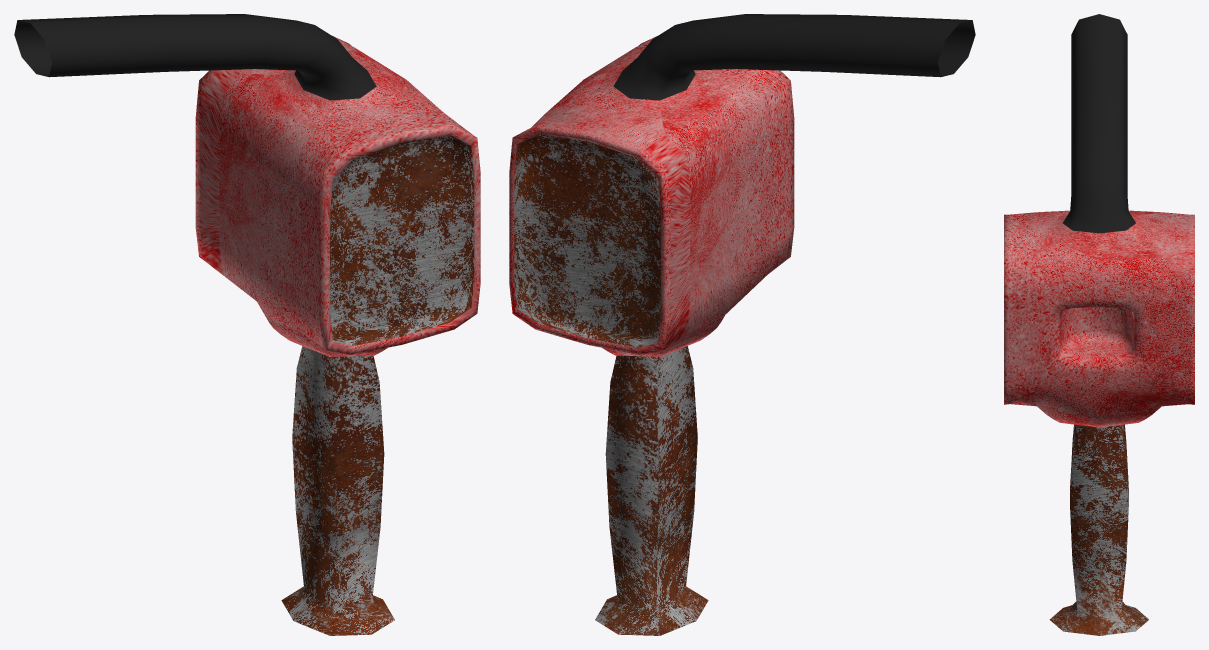
File: Generador_3.fbx
3 renders of one model, left to right at view 1: azimuth 30°, elevation 25°; view 2: azimuth 150°, elevation 25°; view 3: azimuth 270°, elevation 25°, orthographic. The views are drawn at different scales.
Parts seen in each view (by area): view 1: Generador.002; view 2: Generador.002; view 3: Generador.002.
Boxes of the visible parts, left/top/right/bottom form: Generador.002: left=14, top=14, right=480, bottom=635; Generador.002: left=509, top=14, right=975, bottom=635; Generador.002: left=1004, top=14, right=1194, bottom=635.
Bounding box in the file's own units: 380 × 622 × 218.
